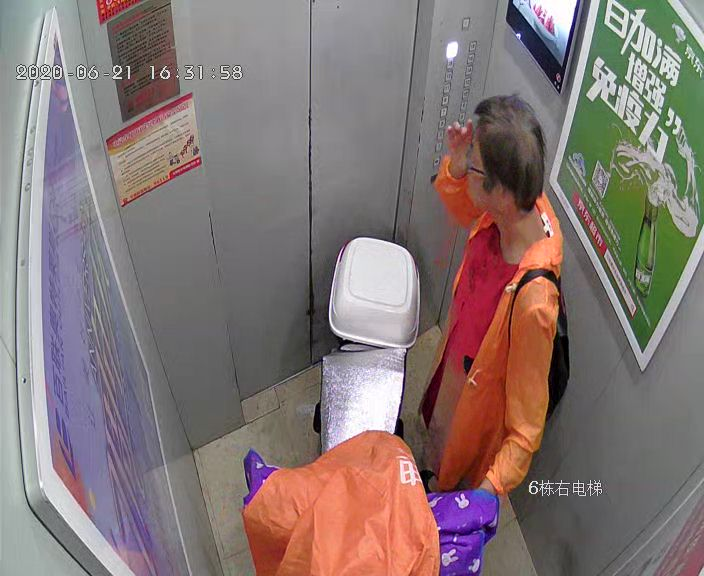Electric-bicycle: (247, 236, 492, 576)
